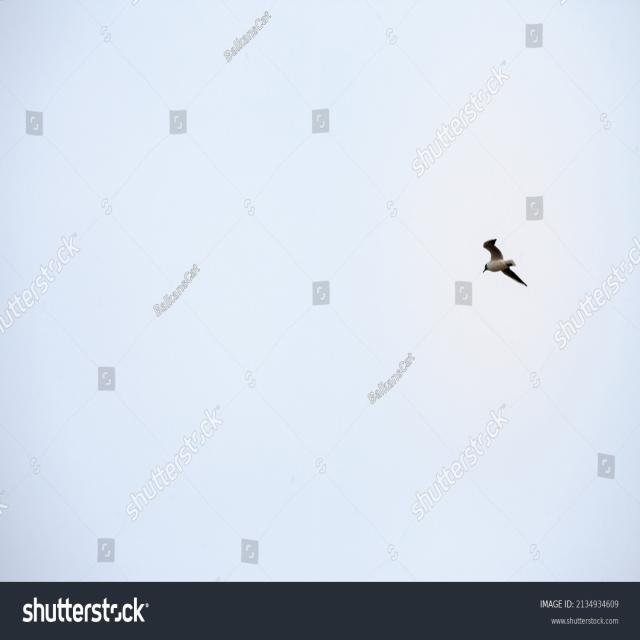bird: (448, 171, 543, 292)
